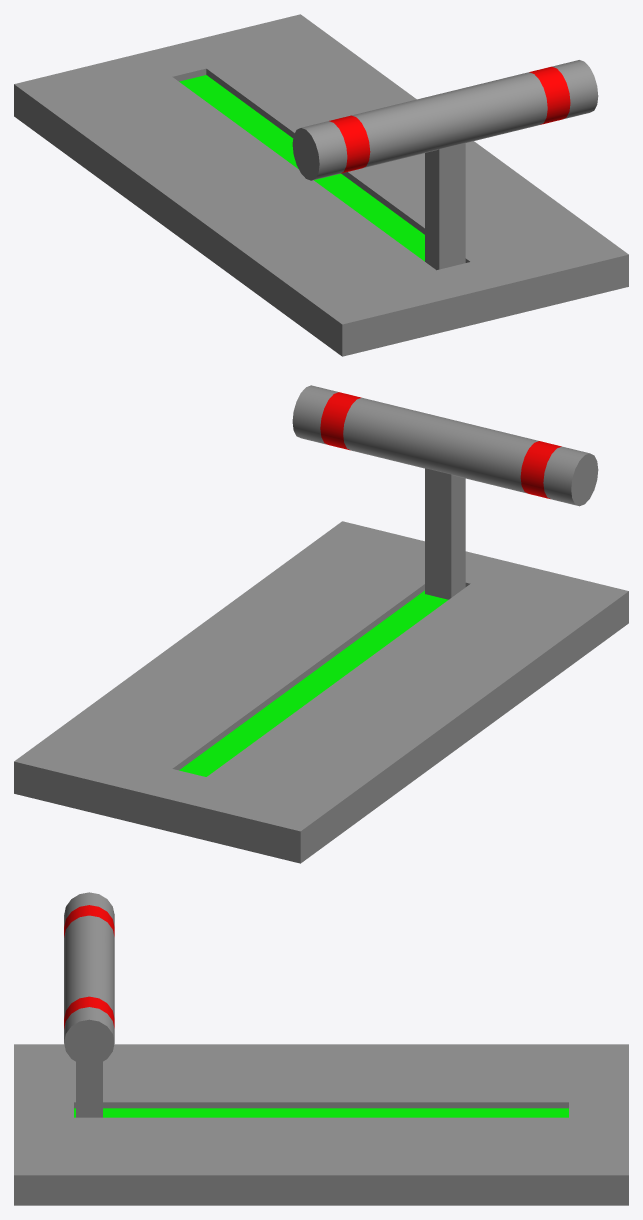
The model's file is Switch1.FBX.
3 renders of one model, top to bottom at view 1: azimuth 30°, elevation 25°; view 2: azimuth 150°, elevation 25°; view 3: azimuth 270°, elevation 25°, orthographic. The views are drawn at different scales.
Parts seen in each view (by area): view 1: Switch1; view 2: Switch1; view 3: Switch1.
Part boxes in pixels (bbox=[...]): Switch1: bbox=[14, 14, 628, 356]; Switch1: bbox=[14, 385, 628, 863]; Switch1: bbox=[14, 892, 628, 1205].
Bounding box in the file's own units: 13.81 × 9.05 × 27.39.
